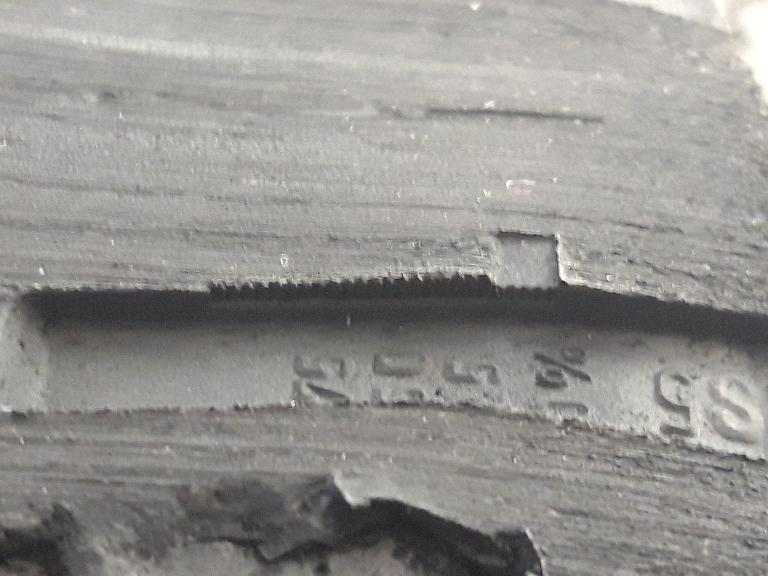temoin:0: (463, 212, 586, 332)
